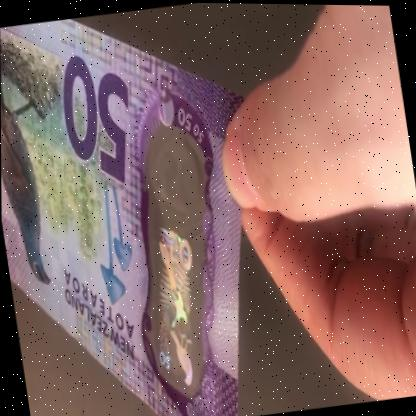50B: (124, 136, 225, 393)
